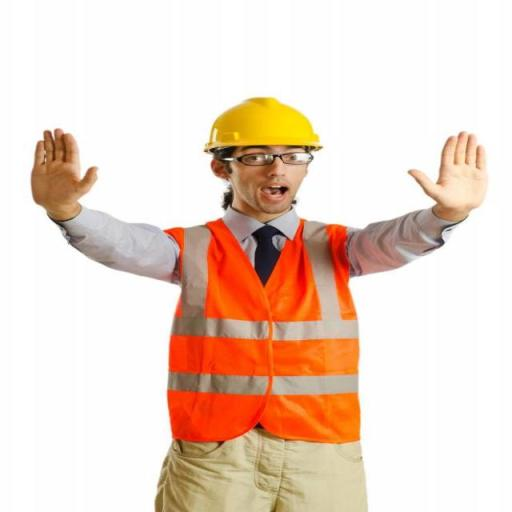helmet: (197, 93, 327, 156)
vest: (155, 209, 364, 449)
